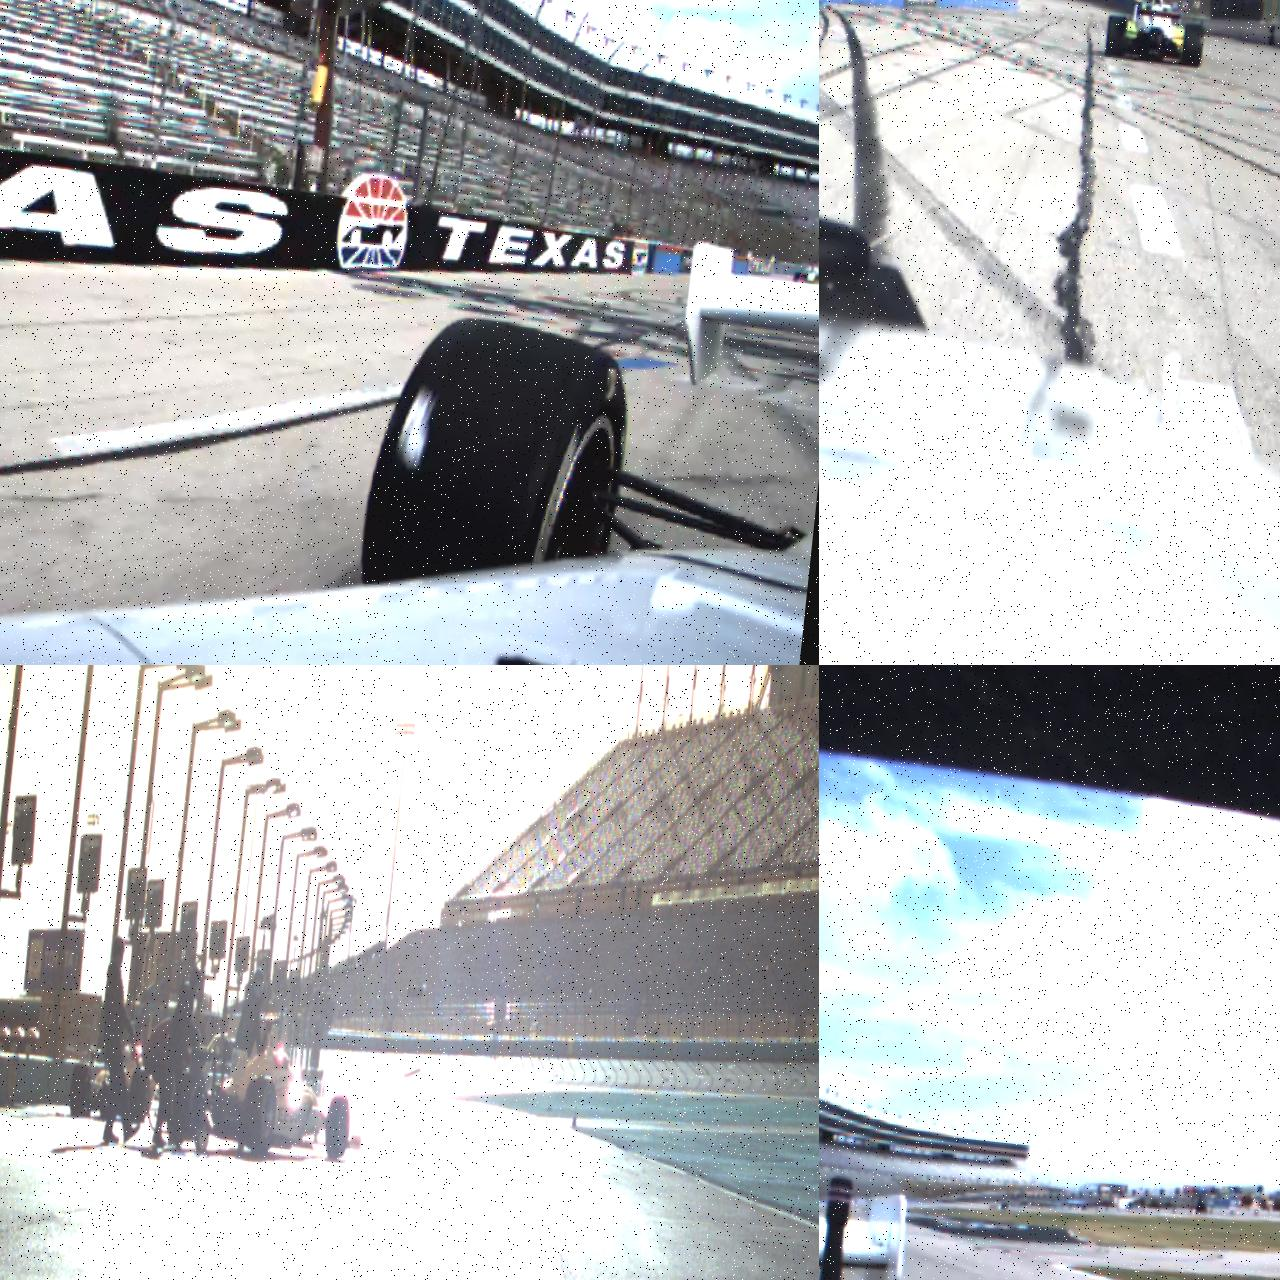AV: (169, 1002, 373, 1163), (1103, 0, 1210, 69), (794, 258, 819, 284)
Wheel: (358, 308, 636, 622), (240, 1074, 280, 1153), (169, 1073, 207, 1142), (322, 1095, 353, 1160), (125, 1068, 152, 1124), (68, 1063, 93, 1116), (1180, 23, 1205, 69), (1104, 14, 1129, 59)
